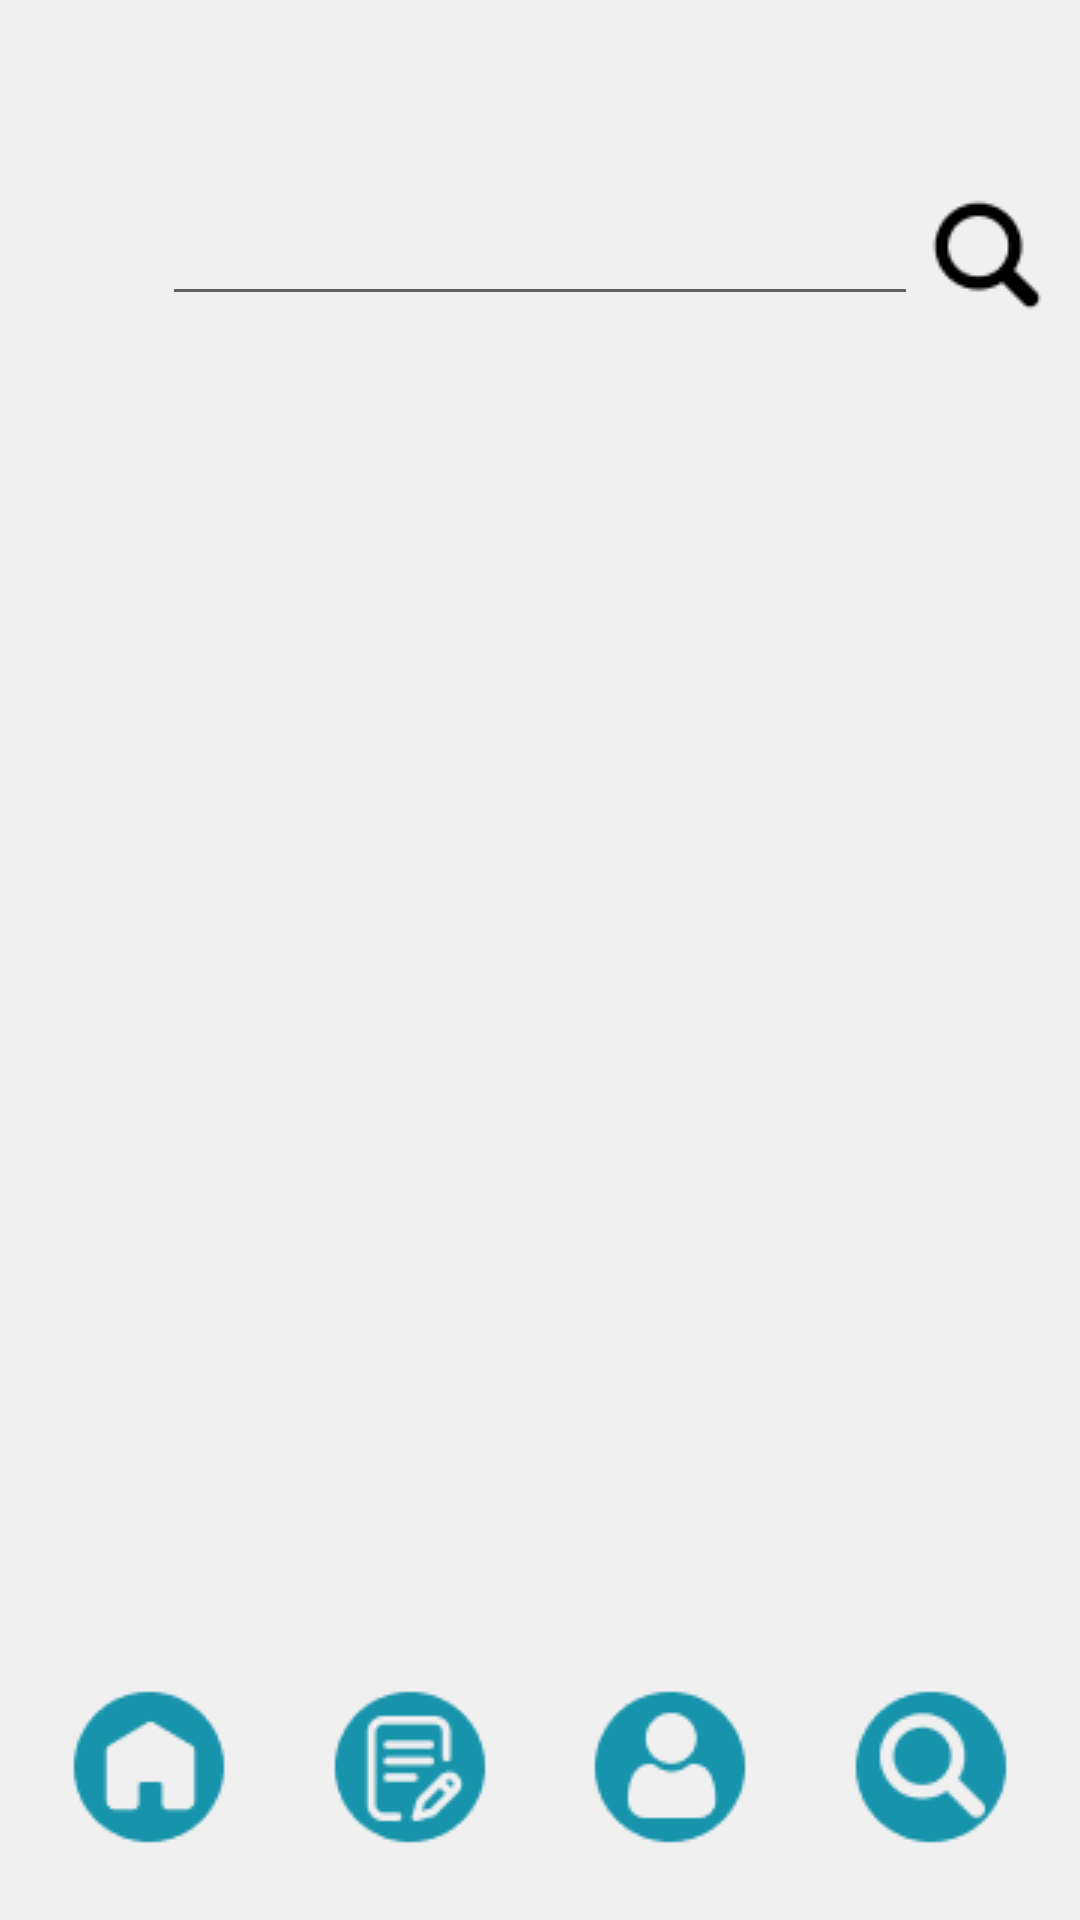

Named icons in this screenshot (1080 × 1920) and their bounding boxes, (x1, y1, x2, y2):
diary: (334, 1691, 486, 1843)
home: (73, 1691, 225, 1843)
profile: (594, 1691, 746, 1843)
search: (933, 201, 1041, 309)
